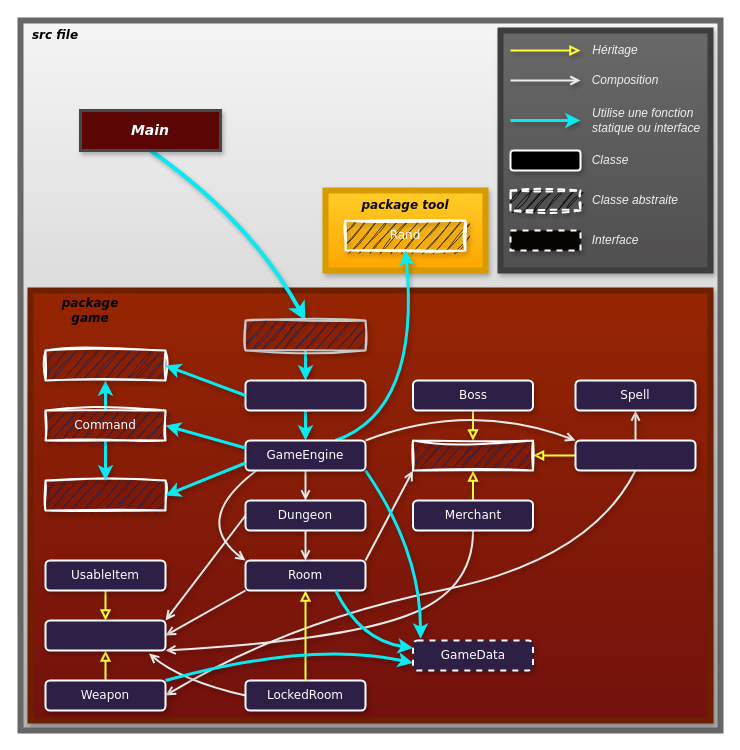
The diagram is 740 pixels wide and 750 high, and some of its shapes have lost their labels. Here are the shapes that lost their labels. From the top down, the centre of each, then its label:
At [306,336]: "Game".
At [106,366]: "Save".
At [306,396]: "GameConfig".
At [474,456]: "Person".
At [636,456]: "Hero".
At [106,496]: "CommandList".
At [106,636]: "Item".
